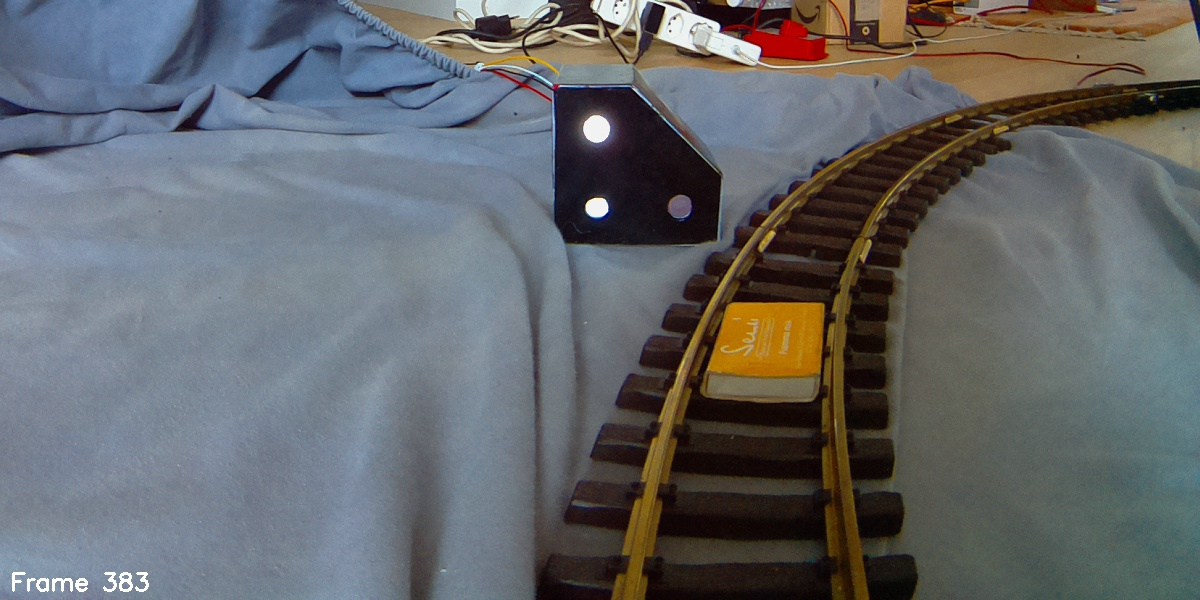Fahrt: (556, 61, 721, 250)
